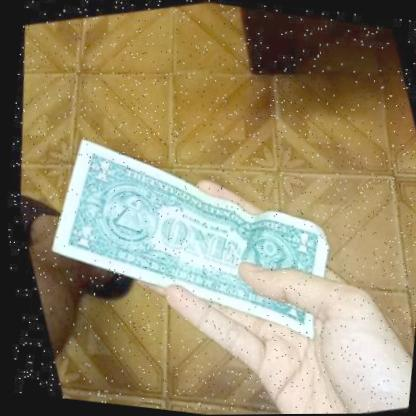one-back: (2, 66, 376, 407)
